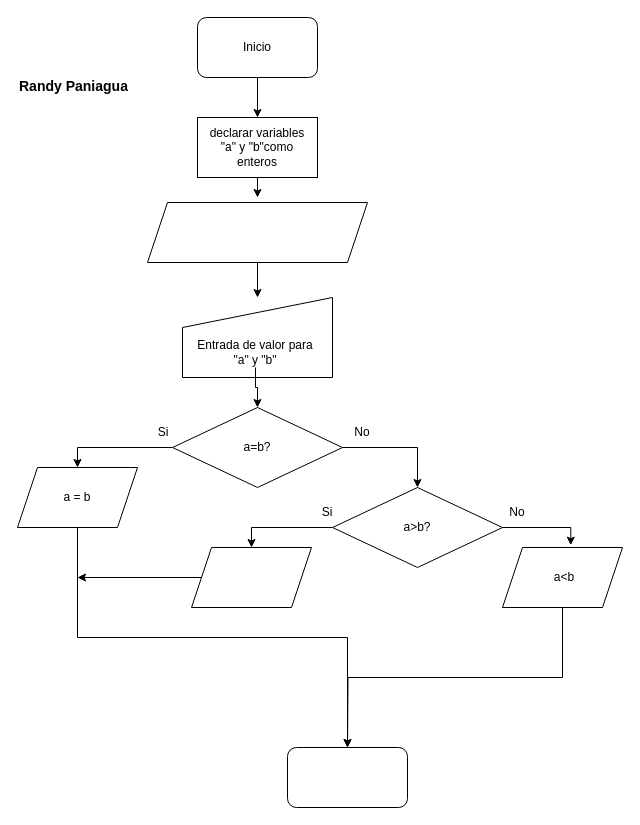
The diagram is 640 pixels wide and 825 high, and some of its shapes have lost their labels. Each missing label, with the box of its shape:
a>b: (190, 546, 312, 608)
Fin: (286, 746, 408, 808)
Mostrar en pantalla "Introduzca dos numeros": (146, 202, 368, 262)
